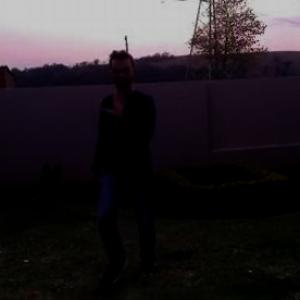follow_hand: (101, 86, 134, 118)
